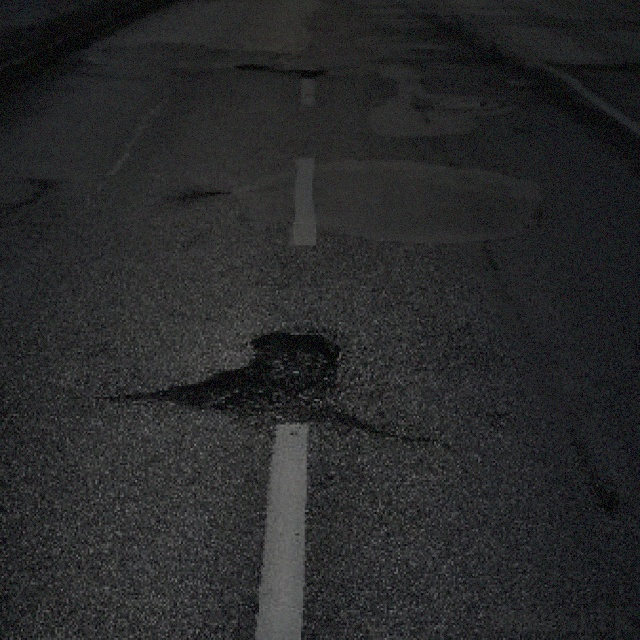pothole: (170, 326, 348, 424), (291, 62, 324, 79), (232, 60, 268, 70)
